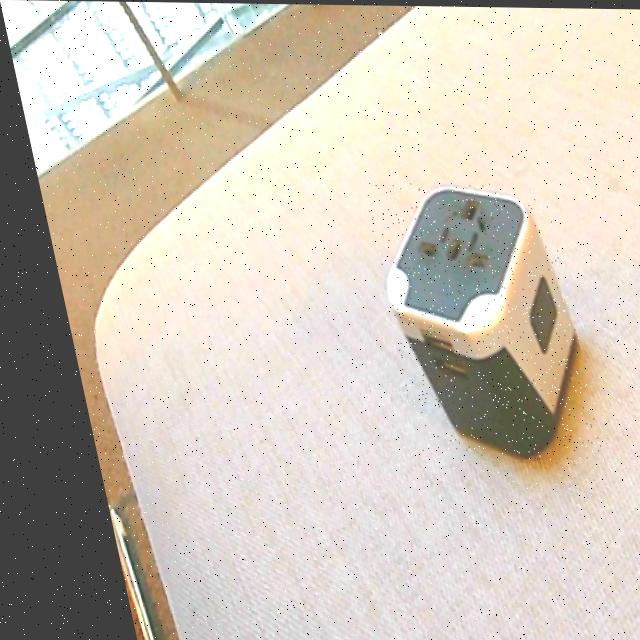adapter: (354, 179, 584, 459)
